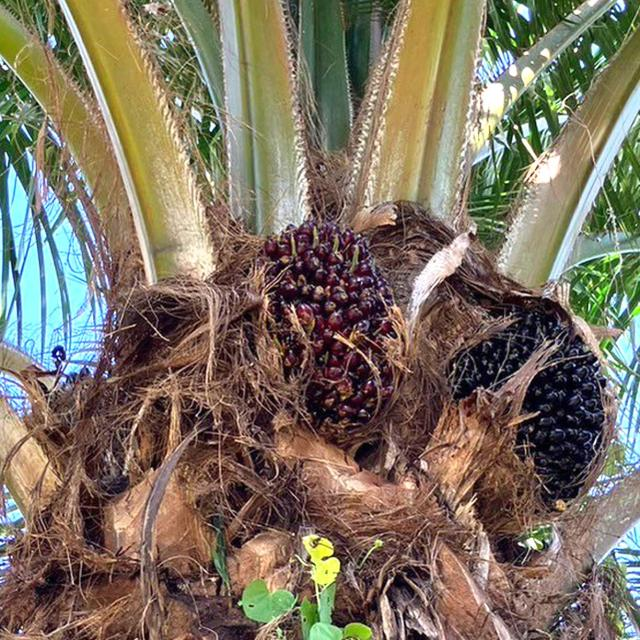ripe: (230, 211, 411, 476)
